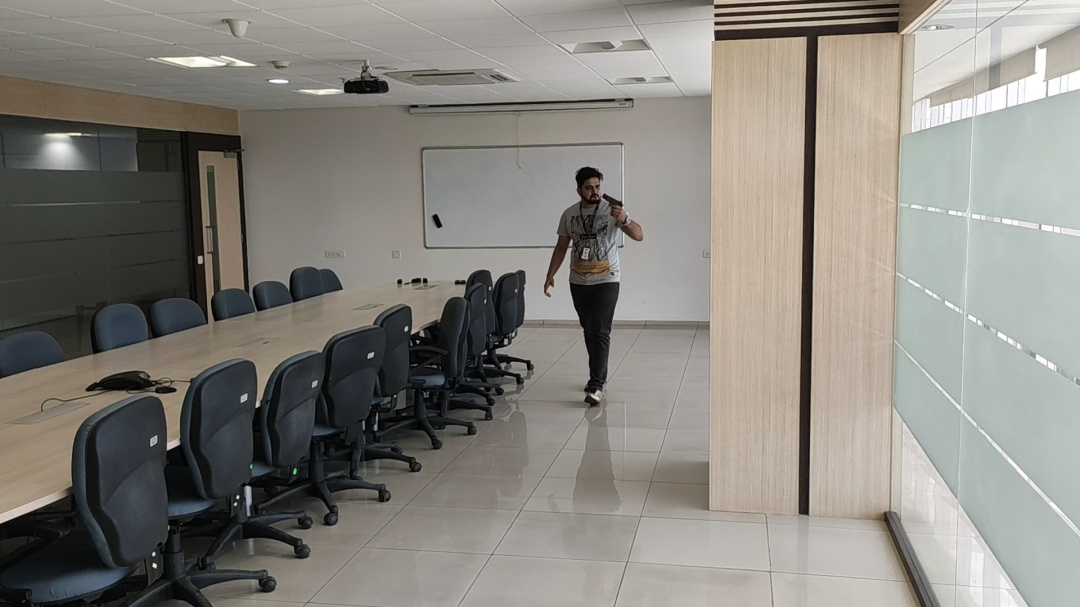gun: (602, 192, 623, 206)
